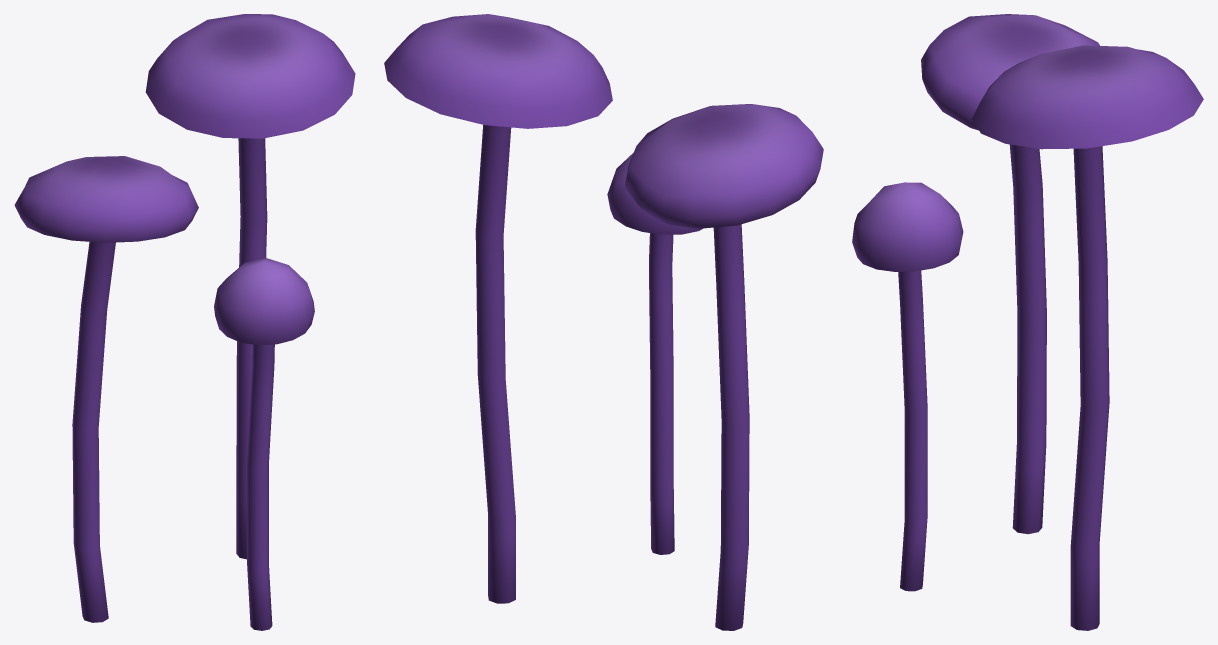
Rendered from Amethyst_Deceiver_Group_2.fbx.
The picture shows the model from 3 angles, left to right: view 1: azimuth 30°, elevation 25°; view 2: azimuth 150°, elevation 25°; view 3: azimuth 270°, elevation 25°; orthographic projection. The views are drawn at different scales.
Parts seen in each view (by area): view 1: Amethyst_Deceiver_Group_2; view 2: Amethyst_Deceiver_Group_2; view 3: Amethyst_Deceiver_Group_2.
Boxes of the visible parts, x1=… form: Amethyst_Deceiver_Group_2: x1=14, y1=14, x2=355, y2=630; Amethyst_Deceiver_Group_2: x1=384, y1=14, x2=823, y2=630; Amethyst_Deceiver_Group_2: x1=852, y1=14, x2=1203, y2=630.
Size of the model in its own units: 21.39 by 30.62 by 17.18.
